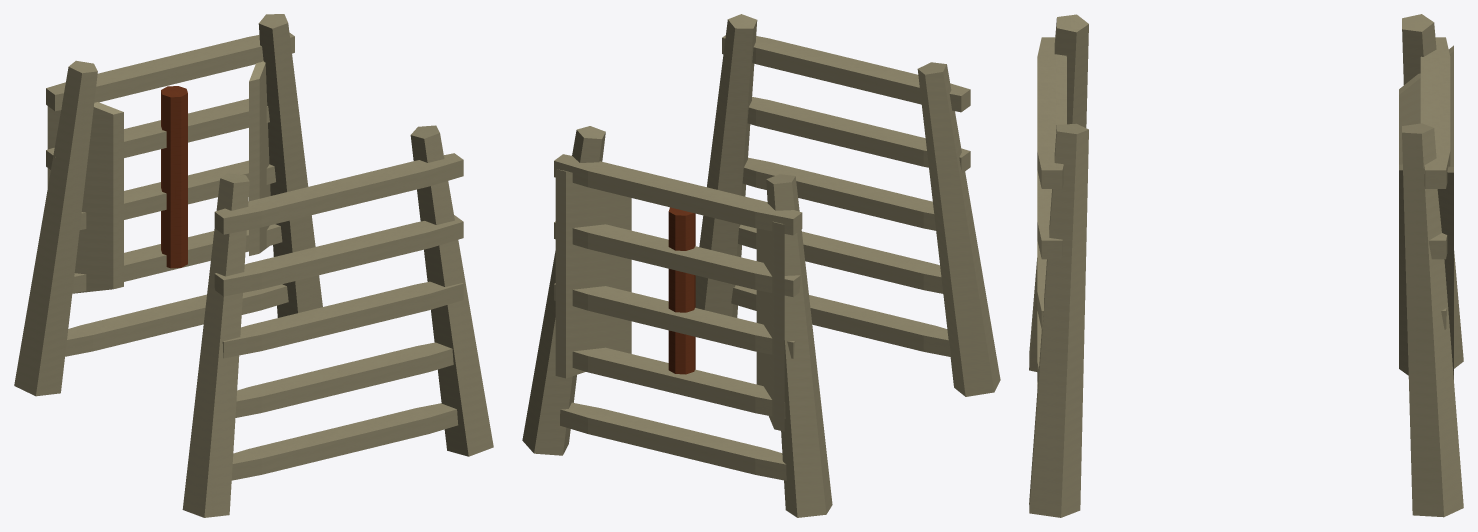
The model's file is crown-ceramic-lightwell-1.glb.
3 renders of one model, left to right at view 1: azimuth 30°, elevation 25°; view 2: azimuth 150°, elevation 25°; view 3: azimuth 270°, elevation 25°, orthographic. The views are drawn at different scales.
Visible parts, largest first — view 1: crown-ceramic-lightwell_LOD1; view 2: crown-ceramic-lightwell_LOD1; view 3: crown-ceramic-lightwell_LOD1.
Boxes of the visible parts, <box> form: crown-ceramic-lightwell_LOD1: <box>14,14,493,517</box>; crown-ceramic-lightwell_LOD1: <box>522,14,1000,517</box>; crown-ceramic-lightwell_LOD1: <box>1029,14,1463,517</box>.
Size of the model in its own units: 0.8771 by 0.8831 by 0.9522.
2 materials, 2 textured.
